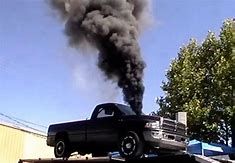smoke: (51, 1, 148, 111)
